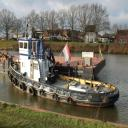tugboat: (8, 31, 121, 111)
